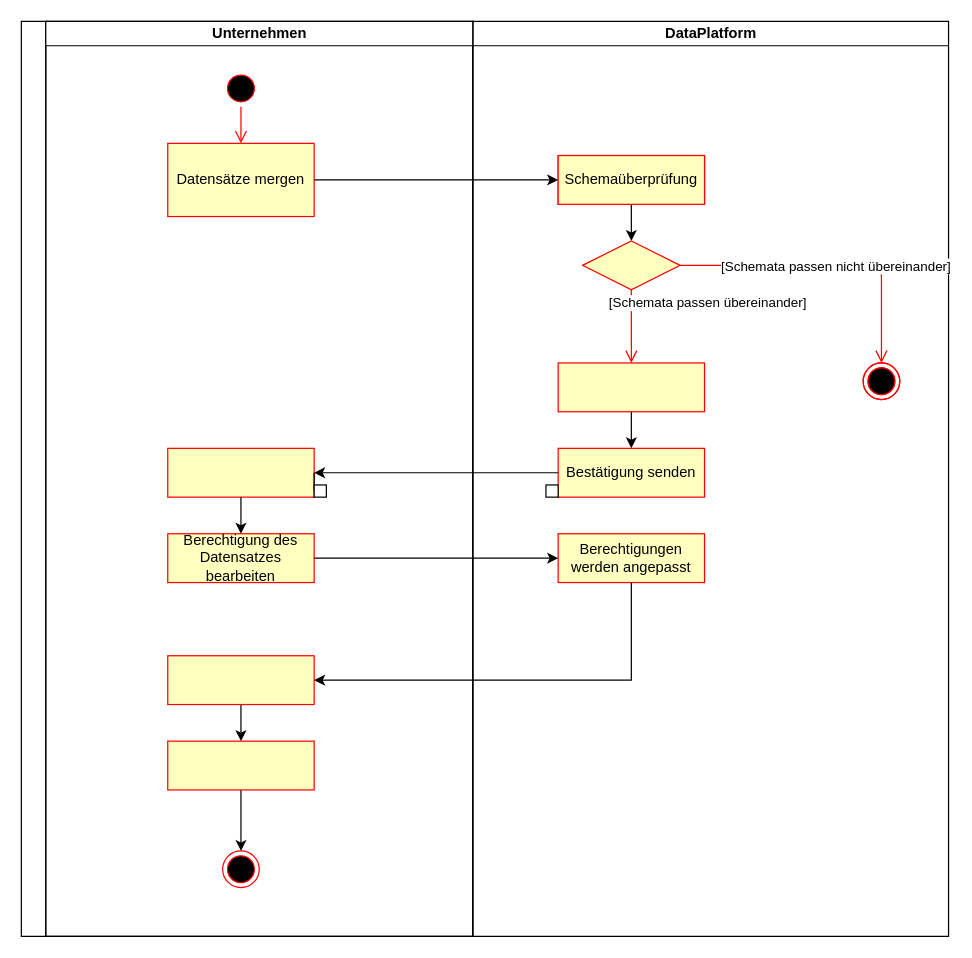
This 972x958 diagram has some shape labels left out. Each missing label, with the centre of its shape:
"Am Datensatz arbeiten" belongs at (x=240, y=680).
"Anlegen des zusammengeführten Datensatzes" belongs at (x=631, y=387).
"Erkenntnisse gewinnen & teilen" belongs at (x=240, y=765).
"Kenntnisnahme" belongs at (x=240, y=472).
